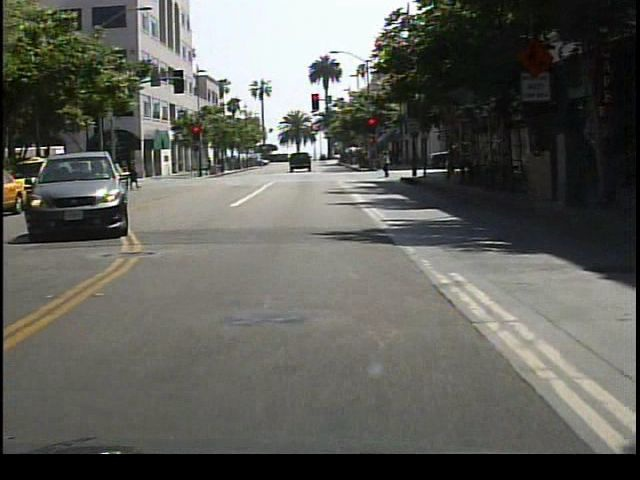person: (410, 144, 425, 174), (379, 150, 395, 178)
